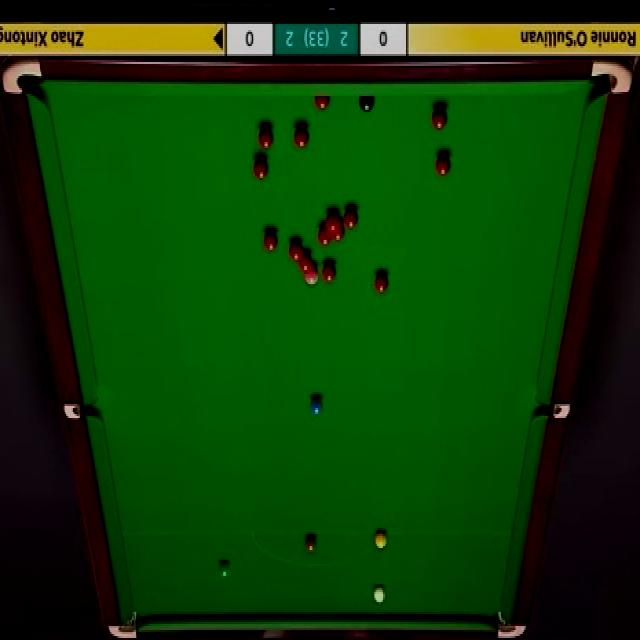black-ball: (358, 96, 374, 112)
blue-ball: (310, 398, 324, 415)
brown-ball: (305, 534, 316, 552)
green-ball: (219, 562, 231, 578)
pink-ball: (304, 266, 319, 286)
red-ball: (253, 155, 270, 180), (293, 124, 309, 150), (431, 106, 448, 129), (434, 156, 452, 177), (258, 126, 273, 150), (321, 262, 339, 282), (344, 207, 359, 231), (314, 227, 331, 248), (289, 241, 305, 263), (374, 274, 389, 297), (263, 230, 278, 253), (331, 222, 344, 242), (326, 212, 339, 232), (313, 97, 331, 111), (298, 255, 312, 273)
white-ball: (374, 586, 386, 604)
yellow-ball: (375, 530, 387, 550)
